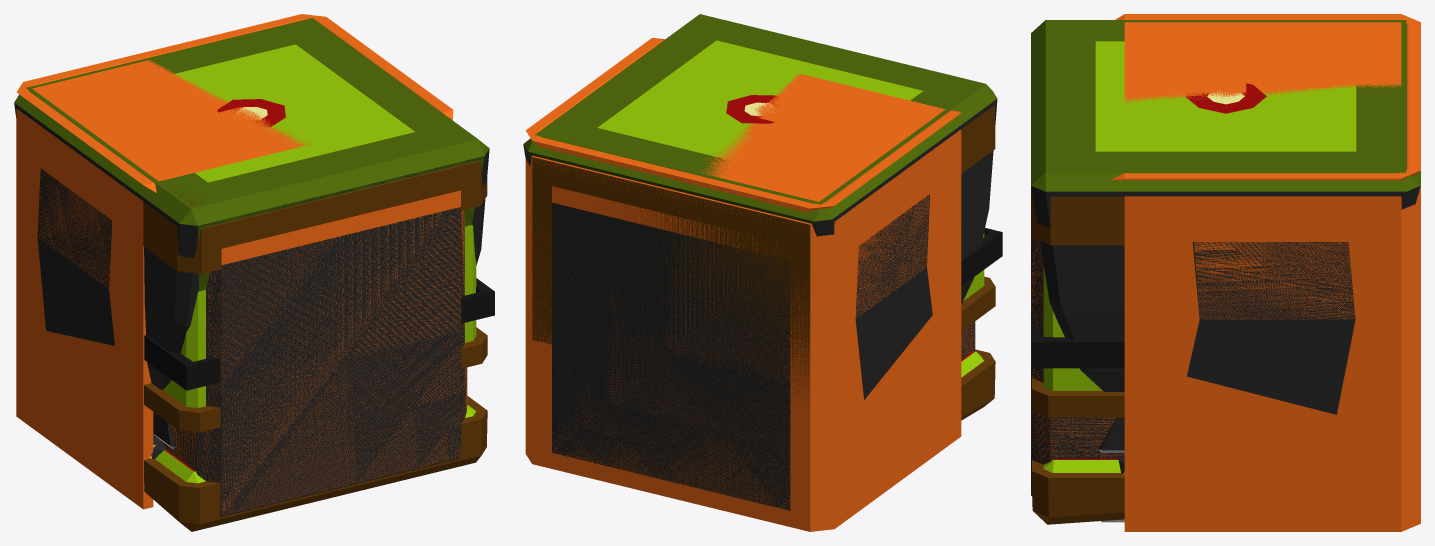
File: DEV_ZombiesV1.0.fbx
The picture shows the model from 3 angles, left to right: view 1: azimuth 30°, elevation 25°; view 2: azimuth 150°, elevation 25°; view 3: azimuth 270°, elevation 25°; orthographic projection. The views are drawn at different scales.
Parts seen in each view (by area): view 1: Z_01_BodyI, Z_01_HeadN, Z_01_LegsI, Z_01_BodyN, Z_01_HeadI, Z_01_LegsN; view 2: Z_01_BodyI, Z_01_HeadN, Z_01_LegsI, Z_01_HeadI, Z_01_BodyN, Z_01_LegsN; view 3: Z_01_HeadN, Z_01_LegsI, Z_01_BodyI, Z_01_BodyN, Z_01_LegsN, Z_01_HeadI.
Part boxes in pixels (x1,y1,x2,y2): Z_01_BodyI: (37,99,467,516); Z_01_HeadN: (16,60,494,509); Z_01_LegsI: (14,18,489,458); Z_01_BodyN: (16,14,467,515); Z_01_HeadI: (143,160,487,531); Z_01_LegsN: (14,103,489,458); Z_01_BodyI: (552,110,975,510); Z_01_HeadN: (525,73,1002,531); Z_01_LegsI: (523,14,997,230); Z_01_HeadI: (532,105,995,420); Z_01_BodyN: (526,37,975,509); Z_01_LegsN: (523,99,997,303); Z_01_HeadN: (1031,22,1420,531); Z_01_LegsI: (1031,20,1420,474); Z_01_BodyI: (1031,83,1355,496); Z_01_BodyN: (1031,14,1420,495); Z_01_LegsN: (1031,186,1420,522); Z_01_HeadI: (1031,186,1124,524).
Bounding box in the file's own units: 100 × 100 × 100.
Materials: 1 (1 with a texture image).
